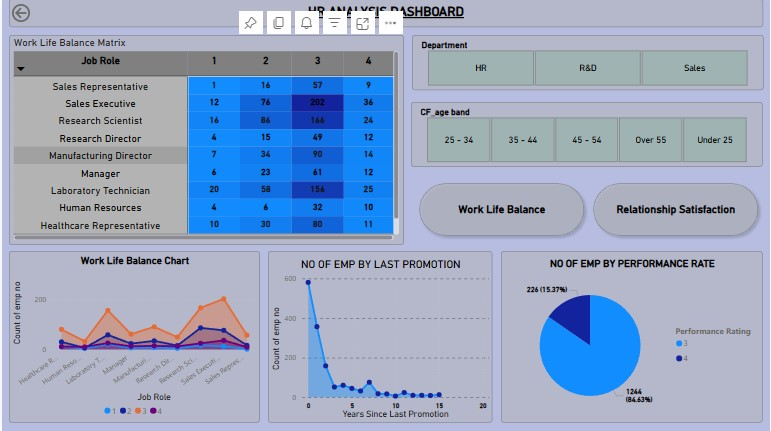

What the dashboard file says about the page in this screenshot:
{"tool":"powerbi","page":{"name":"Experience_Dashboard","canvas":[1280,720],"ordinal":2},"visuals":[{"type":"textbox","box":[11.7,0,1256.7,46.7],"z":0},{"type":"pivotTable","title":"Work Life Balance Matrix","fields":{"Columns":["HR data.Work Life Balance"],"Rows":["HR data.Job Role"],"Values":["Count(HR data.emp no)"]},"box":[12,60,658,350],"z":1000},{"type":"pieChart","title":"NO OF EMP BY PERFORMANCE RATE","fields":{"Y":["CountNonNull(HR data.emp no)"],"Category":["HR data.Performance Rating"]},"box":[832,420,436,286],"z":2000},{"type":"areaChart","title":"NO OF EMP BY LAST PROMOTION","fields":{"Category":["HR data.Years Since Last Promotion"],"Y":["CountNonNull(HR data.emp no)"]},"box":[444,420,374,286],"z":3000},{"type":"slicer","fields":{"Values":["HR data.Department"]},"box":[684,60,586,92],"z":4000},{"type":"shape","box":[686,298.7,292.7,105.1],"z":6000,"group":"g1"},{"type":"slicer","fields":{"Values":["HR data.CF_age band"]},"box":[682,171.3,586,108],"z":6000},{"type":"shape","box":[975.3,298.7,292.7,105.1],"z":7000,"group":"g1"},{"type":"group","id":"g1","title":"Group 1","box":[686,298.7,582,102],"z":7000},{"type":"areaChart","title":"Work Life Balance Chart","fields":{"Category":["HR data.Job Role"],"Y":["CountNonNull(HR data.emp no)"],"Series":["HR data.Work Life Balance"]},"box":[12,420,418,286],"z":8000},{"type":"actionButton","box":[12,4,100,40],"z":10000}]}

Visuals, with their boxes on the page's 1280x720 design canvas (x1, y1, x2, y2). These are canvas units, not pixel positions in the 771x431 screenshot, which may show the page scaled, cropped or inside an application window:
textbox: [x1=12, y1=0, x2=1268, y2=47]
"Work Life Balance Matrix" pivotTable: [x1=12, y1=60, x2=670, y2=410]
"NO OF EMP BY PERFORMANCE RATE" pieChart: [x1=832, y1=420, x2=1268, y2=706]
"NO OF EMP BY LAST PROMOTION" areaChart: [x1=444, y1=420, x2=818, y2=706]
slicer - HR data.Department: [x1=684, y1=60, x2=1270, y2=152]
shape: [x1=686, y1=299, x2=979, y2=404]
slicer - HR data.CF_age band: [x1=682, y1=171, x2=1268, y2=279]
shape: [x1=975, y1=299, x2=1268, y2=404]
"Group 1" group: [x1=686, y1=299, x2=1268, y2=401]
"Work Life Balance Chart" areaChart: [x1=12, y1=420, x2=430, y2=706]
actionButton: [x1=12, y1=4, x2=112, y2=44]
